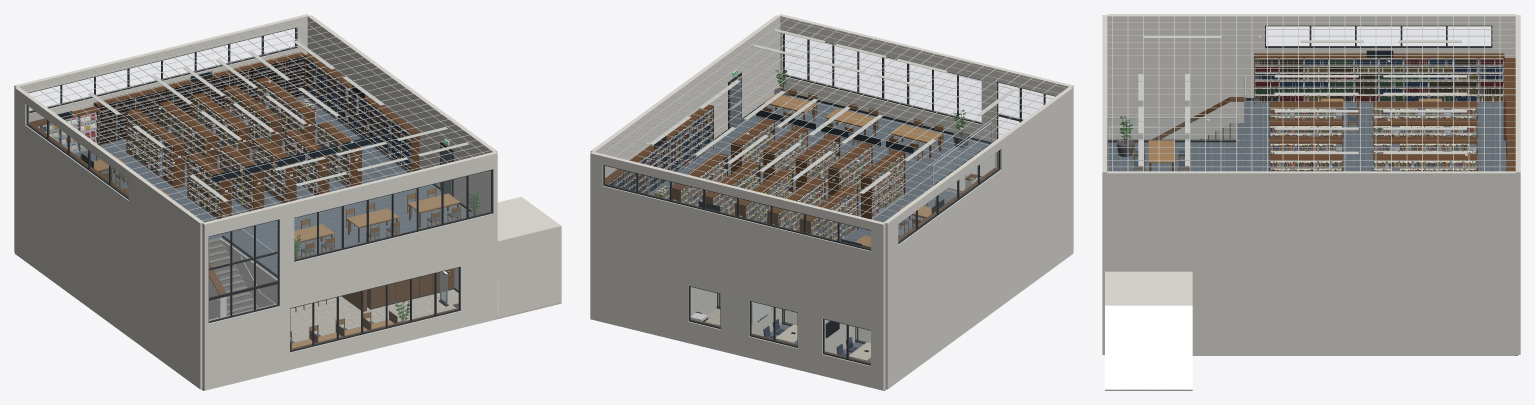
Rendered from lawlib_interior.glb.
The picture shows the model from 3 angles, left to right: view 1: azimuth 30°, elevation 25°; view 2: azimuth 150°, elevation 25°; view 3: azimuth 270°, elevation 25°; orthographic projection. The views are drawn at different scales.
Parts seen in each view (by area): view 1: L0_WALL_S_wall, L0_WALL_W_wall, L1_glass, L1_WALL_ceil_tbar, L1_WALL_W_wall, L1_endpanel, L1_WALL_S_wall, L1_carpet, L0_wall, L1_WALL_E_wall, L0_glass, L1_shelf (+13 smaller); view 2: L0_WALL_N_wall, L1_WALL_N_wall, L0_WALL_W_wall, L1_WALL_ceil_tbar, L1_glass, L1_WALL_W_wall, L1_WALL_S_wall, L1_WALL_E_wall, L1_endpanel, L1_carpet, L0_glass, L1_shelf (+14 smaller); view 3: L1_WALL_E_wall, L0_WALL_E_wall, L1_WALL_ceil_tbar, L1_WALL_W_wall, L1_carpet, L1_endpanel, L0_lobbylight, L1_shelf, L1_glass, L0_wall, L0_WALL_W_wall, L1_WALL_N_wall (+8 smaller).
Boxes of the visible parts, <box> form: L0_WALL_S_wall: <box>202,230,497,390</box>; L0_WALL_W_wall: <box>14,164,202,389</box>; L1_glass: <box>28,29,490,297</box>; L1_WALL_ceil_tbar: <box>26,18,490,220</box>; L1_WALL_W_wall: <box>14,86,203,299</box>; L1_endpanel: <box>29,51,419,218</box>; L1_WALL_S_wall: <box>202,151,497,301</box>; L1_carpet: <box>75,97,469,279</box>; L0_wall: <box>209,196,561,318</box>; L1_WALL_E_wall: <box>307,15,497,213</box>; L0_glass: <box>209,268,458,349</box>; L1_shelf: <box>37,60,411,219</box>; L0_WALL_N_wall: <box>590,230,885,390</box>; L1_WALL_N_wall: <box>590,151,885,301</box>; L0_WALL_W_wall: <box>885,164,1073,389</box>; L1_WALL_ceil_tbar: <box>602,18,1066,219</box>; L1_glass: <box>605,34,1053,248</box>; L1_WALL_W_wall: <box>884,86,1073,299</box>; L1_WALL_S_wall: <box>778,14,1073,161</box>; L1_WALL_E_wall: <box>590,15,780,177</box>; L1_endpanel: <box>605,104,997,240</box>; L1_carpet: <box>650,95,988,242</box>; L0_glass: <box>690,287,870,363</box>; L1_shelf: <box>614,113,904,241</box>; L1_WALL_E_wall: <box>1107,171,1515,257</box>; L0_WALL_E_wall: <box>1107,257,1515,355</box>; L1_WALL_ceil_tbar: <box>1107,16,1515,171</box>; L1_WALL_W_wall: <box>1107,14,1515,100</box>; L1_carpet: <box>1107,100,1505,171</box>; L1_endpanel: <box>1254,53,1515,171</box>; L0_lobbylight: <box>1105,305,1192,389</box>; L1_shelf: <box>1254,58,1505,171</box>; L1_glass: <box>1109,27,1490,139</box>; L0_wall: <box>1105,102,1244,305</box>; L0_WALL_W_wall: <box>1107,100,1223,139</box>; L1_WALL_N_wall: <box>1515,15,1520,256</box>.
Size of the model in its own units: 17.7 by 7.85 by 16.2.
Materials: 45 (12 with a texture image).
